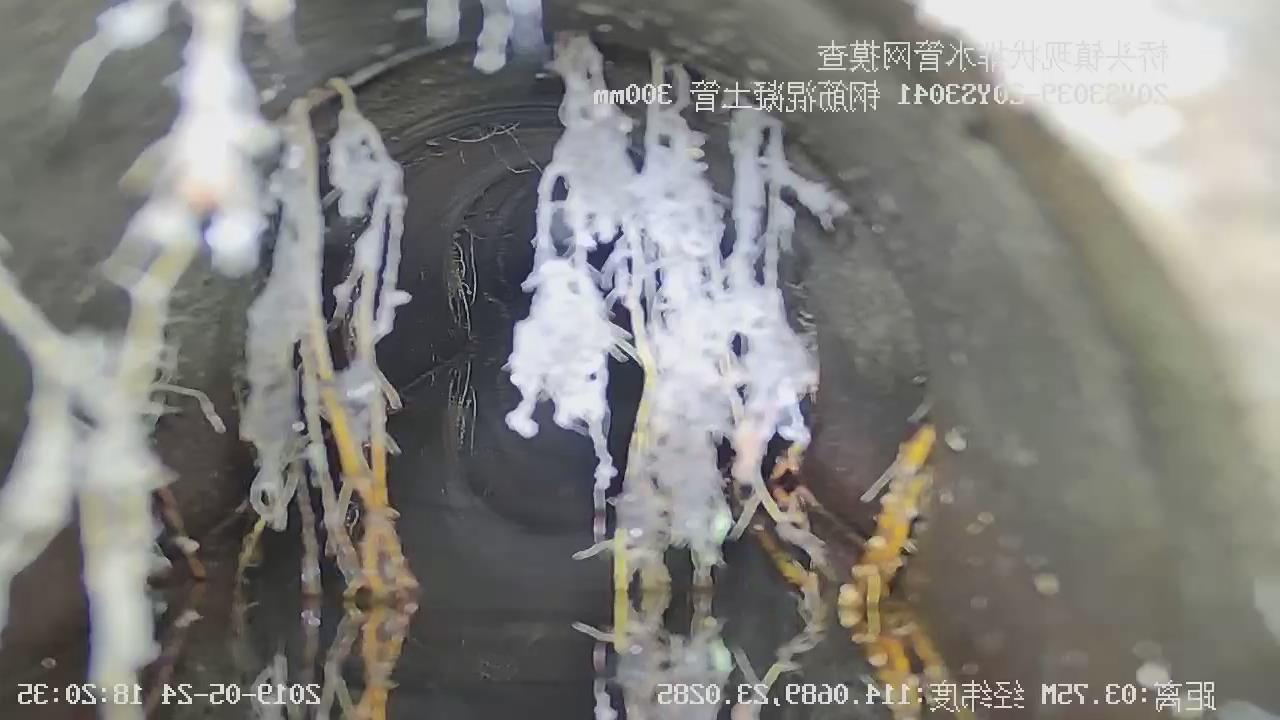SG: (1, 0, 419, 719), (505, 33, 849, 719), (835, 425, 935, 719), (474, 0, 544, 73)
